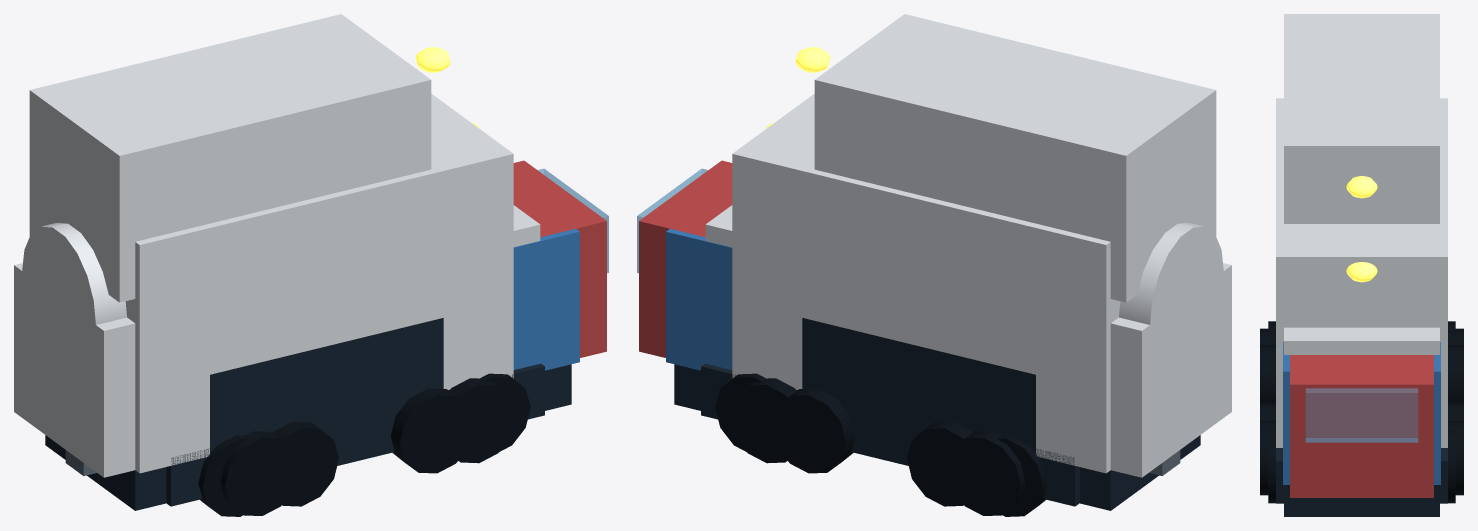
Rendered from ground-vehicles.glb.
3 views of the same model, side by side, from view 1: azimuth 30°, elevation 25°; view 2: azimuth 150°, elevation 25°; view 3: azimuth 270°, elevation 25° (orthographic). The views are drawn at different scales.
Visible parts, largest first — view 1: Body (×3), Lift_Box, Cab (×2), Fuel_Tank, Chassis (×3), Wheel_R_-6.720000000000001, Wheel_R_4.5, Wheel_R_7.199999999999999, Wheel_R_-4.2, Wheel_R_-7.840000000000001, Wheel_R_8.4, Beacon; view 2: Body (×3), Lift_Box, Cab (×2), Chassis (×3), Fuel_Tank, Wheel_L_-6.720000000000001, Wheel_L_4.5, Wheel_L_7.199999999999999, Wheel_L_-4.2, Wheel_L_-7.840000000000001, Wheel_L_8.4, Beacon; view 3: Lift_Box, Body (×2), Cab (×2), Windshield, Chassis (×2), Beacon (×2), Wheel_L_-4.2, Wheel_R_-4.2, Wheel_L_7.199999999999999, Wheel_R_7.199999999999999, Wheel_L_8.4, Wheel_R_8.4 (+4 smaller).
Part boxes in pixels (x1,y1,x2,y2): Body (×3): [14, 94, 540, 477]; Lift_Box: [29, 14, 431, 302]; Cab (×2): [513, 160, 606, 370]; Fuel_Tank: [22, 223, 126, 369]; Chassis (×3): [45, 363, 571, 510]; Wheel_R_-6.720000000000001: [220, 431, 299, 515]; Wheel_R_4.5: [390, 388, 472, 473]; Wheel_R_7.199999999999999: [444, 378, 516, 463]; Wheel_R_-4.2: [273, 421, 338, 506]; Wheel_R_-7.840000000000001: [198, 435, 248, 516]; Wheel_R_8.4: [480, 373, 530, 451]; Beacon: [416, 47, 450, 72]; Body (×3): [705, 94, 1231, 477]; Lift_Box: [814, 14, 1216, 302]; Cab (×2): [639, 160, 732, 370]; Chassis (×3): [674, 363, 1200, 510]; Fuel_Tank: [1119, 223, 1223, 369]; Wheel_L_-6.720000000000001: [946, 431, 1025, 515]; Wheel_L_4.5: [772, 388, 855, 473]; Wheel_L_7.199999999999999: [729, 378, 803, 463]; Wheel_L_-4.2: [907, 421, 972, 506]; Wheel_L_-7.840000000000001: [997, 435, 1047, 516]; Wheel_L_8.4: [715, 373, 765, 451]; Beacon: [795, 47, 829, 72]; Lift_Box: [1284, 14, 1439, 223]; Body (×2): [1276, 98, 1447, 447]; Cab (×2): [1283, 342, 1440, 497]; Windshield: [1305, 388, 1418, 442]; Chassis (×2): [1276, 448, 1447, 516]; Beacon (×2): [1346, 176, 1377, 282]; Wheel_L_-4.2: [1448, 345, 1463, 402]; Wheel_R_-4.2: [1260, 345, 1275, 402]; Wheel_L_7.199999999999999: [1448, 420, 1463, 495]; Wheel_R_7.199999999999999: [1260, 420, 1275, 495]; Wheel_L_8.4: [1448, 430, 1455, 503]; Wheel_R_8.4: [1268, 430, 1275, 503].
Size of what is drawn, in the model's own units: 13.28 by 9.36 by 5.22.
